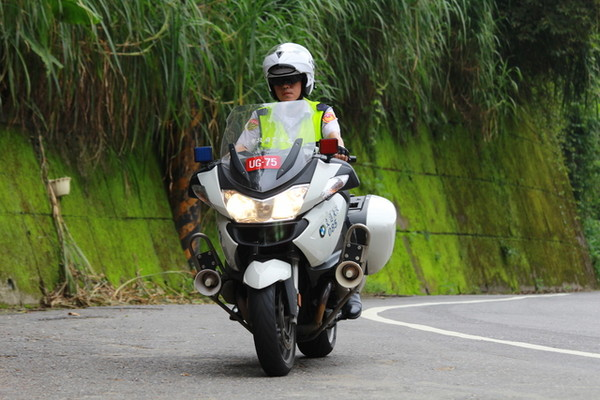helmet: (265, 46, 320, 95)
